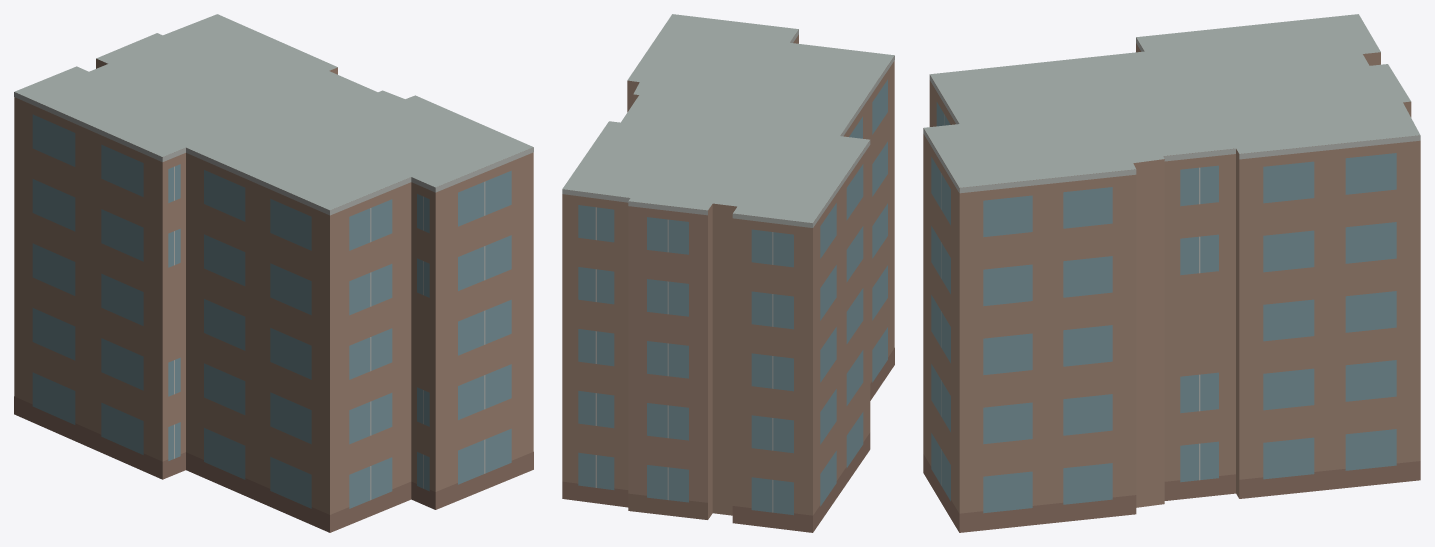
File: survey-upis-33020102.glb
The picture shows the model from 3 angles, left to right: view 1: azimuth 30°, elevation 25°; view 2: azimuth 150°, elevation 25°; view 3: azimuth 270°, elevation 25°; orthographic projection. The views are drawn at different scales.
Parts seen in each view (by area): view 1: survey-upis-33020102.tmp; view 2: survey-upis-33020102.tmp; view 3: survey-upis-33020102.tmp.
Part boxes in pixels (bbox=[...]): survey-upis-33020102.tmp: bbox=[14, 14, 533, 532]; survey-upis-33020102.tmp: bbox=[562, 14, 894, 532]; survey-upis-33020102.tmp: bbox=[923, 14, 1420, 532].
Bounding box in the file's own units: 16.6 × 15.35 × 20.05.
